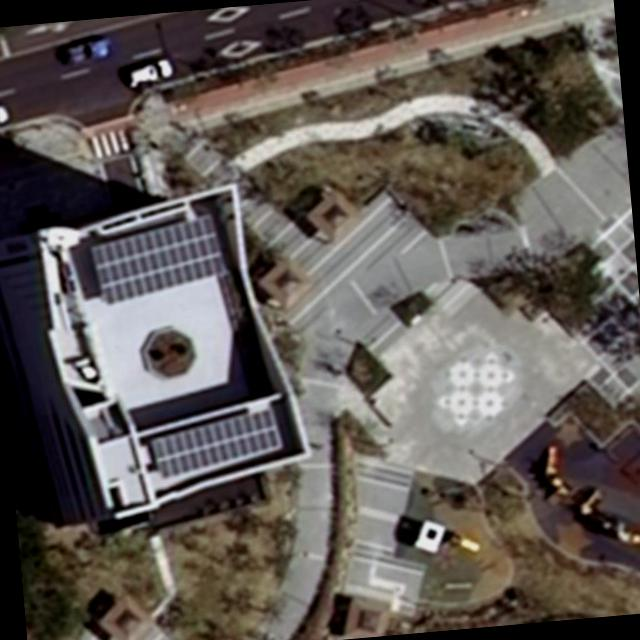solar: (86, 210, 232, 307), (146, 404, 287, 482)
